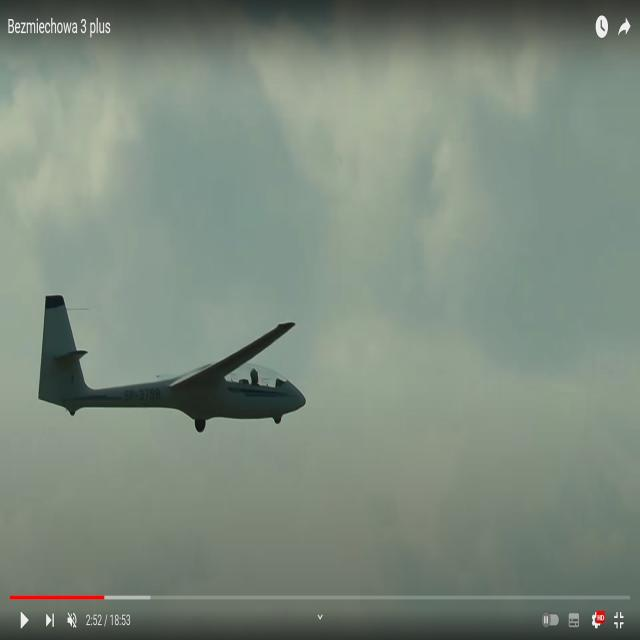iha: (31, 301, 306, 435)
